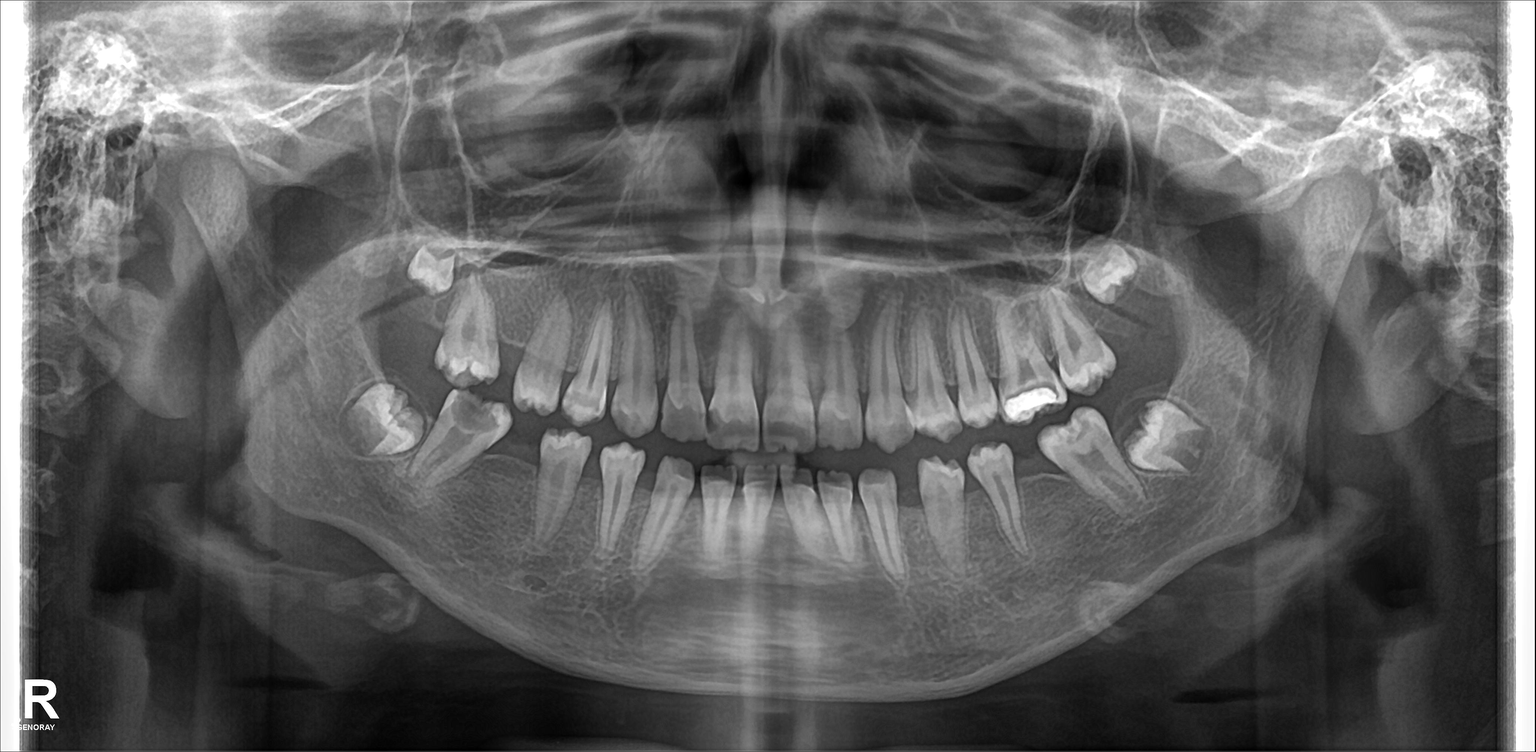Dental Caries: (656, 402, 709, 442), (453, 393, 499, 438), (710, 408, 757, 450)
Impacted Third Molar: (1132, 391, 1199, 475), (345, 395, 425, 460), (1078, 244, 1152, 308), (395, 246, 462, 294)
Missing Tooth: (371, 268, 444, 362), (1093, 264, 1159, 356), (1019, 449, 1064, 533), (490, 300, 527, 390), (499, 432, 533, 523), (896, 475, 924, 550)
